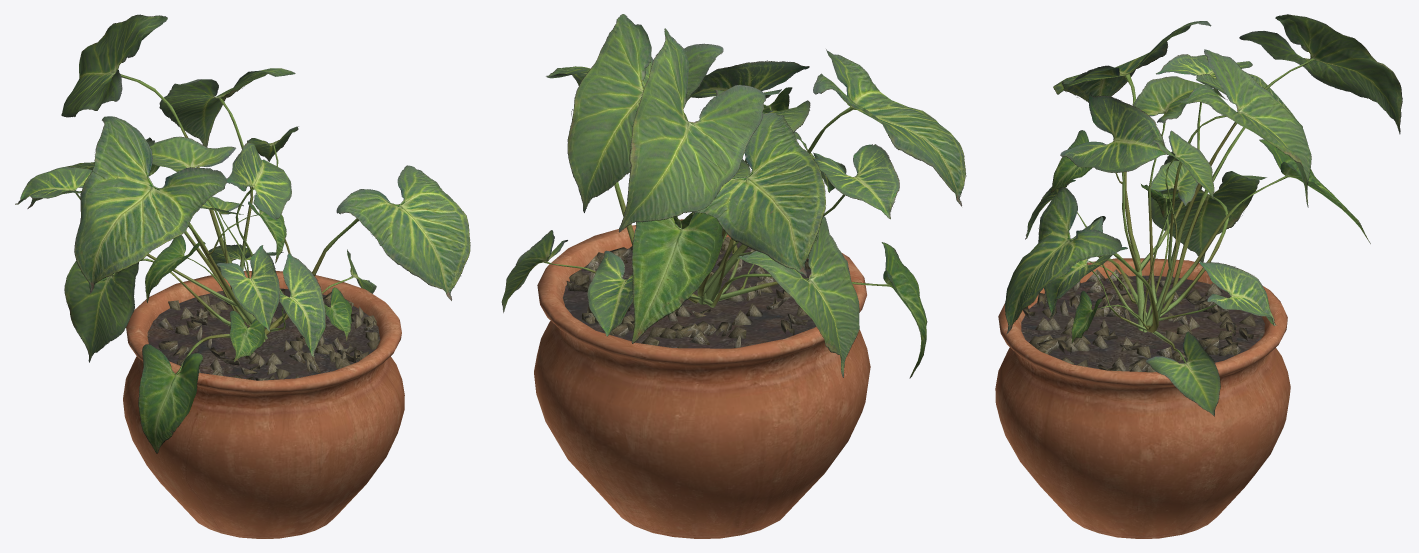
Rendered from shrub_a.glb.
The picture shows the model from 3 angles, left to right: view 1: azimuth 30°, elevation 25°; view 2: azimuth 150°, elevation 25°; view 3: azimuth 270°, elevation 25°; orthographic projection. The views are drawn at different scales.
Visible parts, largest first — view 1: shrub_a; view 2: shrub_a; view 3: shrub_a.
Part boxes in pixels (x1,y1,x2,y2): shrub_a: (15,14,470,538); shrub_a: (501,14,966,538); shrub_a: (995,14,1402,538).
Size of the model in its own units: 0.701 by 0.8412 by 0.6575.
2 materials, 2 textured.
